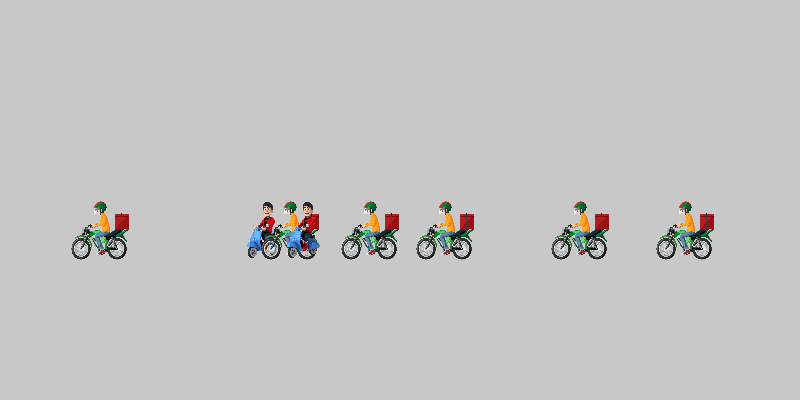helmet: (70, 200, 130, 260), (260, 200, 320, 260), (340, 200, 400, 260), (415, 200, 475, 260), (550, 200, 610, 260), (655, 200, 715, 260)
no_helmet: (235, 200, 295, 260), (275, 200, 335, 260)
